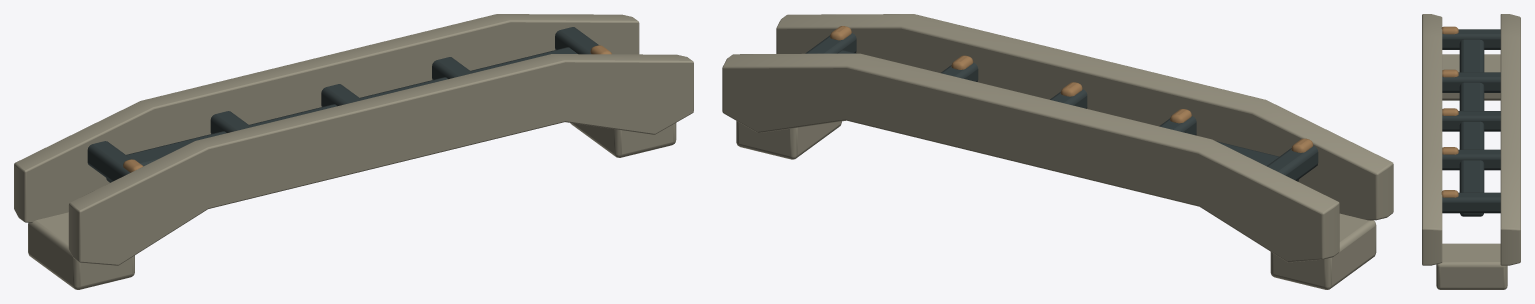
The model's file is threshold_lintel_lod2.glb.
The picture shows the model from 3 angles, left to right: view 1: azimuth 30°, elevation 25°; view 2: azimuth 150°, elevation 25°; view 3: azimuth 270°, elevation 25°; orthographic projection. The views are drawn at different scales.
Visible parts, largest first — view 1: LOD2_ancient, LOD2_substrate; view 2: LOD2_ancient, LOD2_substrate, LOD2_vein; view 3: LOD2_ancient, LOD2_substrate, LOD2_vein.
Boxes of the visible parts, <box> form: LOD2_ancient: <box>14,14,693,289</box>; LOD2_substrate: <box>87,27,598,182</box>; LOD2_ancient: <box>722,14,1393,289</box>; LOD2_substrate: <box>805,33,1318,181</box>; LOD2_vein: <box>830,26,1313,152</box>; LOD2_ancient: <box>1422,14,1520,289</box>; LOD2_substrate: <box>1442,29,1500,216</box>; LOD2_vein: <box>1441,26,1458,197</box>.
Bounding box in the file's own units: 5 × 0.95 × 0.97.
